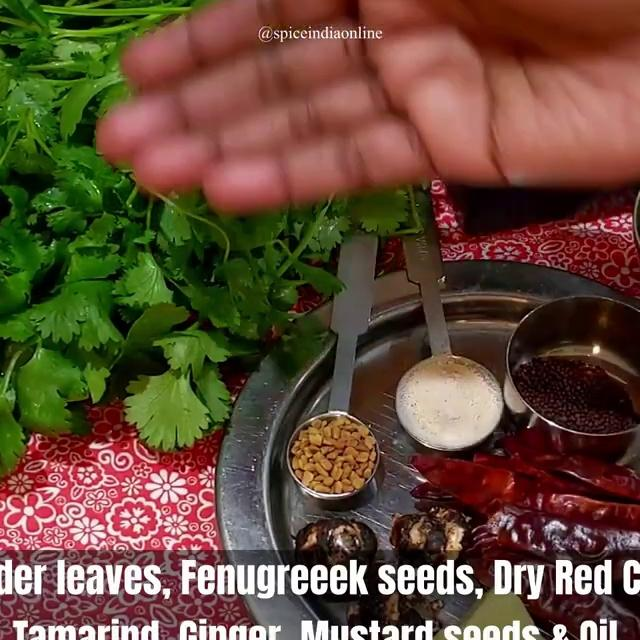cilantro: (0, 0, 116, 459)
